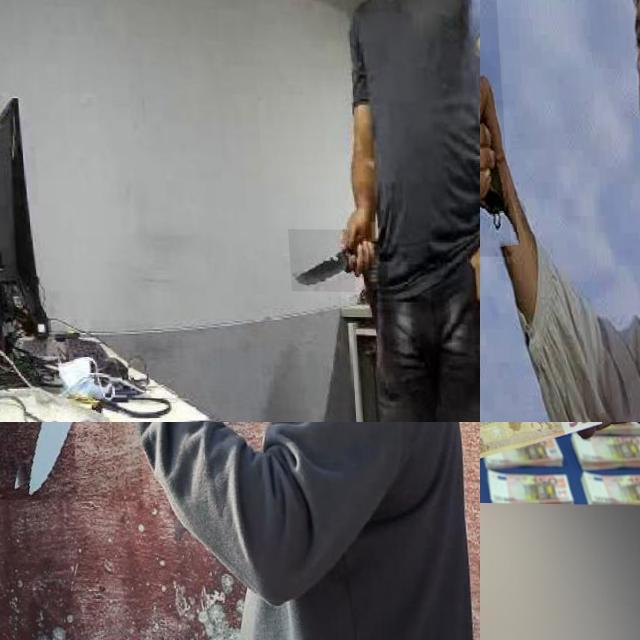-: (0, 422, 137, 546), (284, 228, 349, 292)
gun-knife-thesis - v11 Yolov5 augmented: (480, 0, 561, 256)
